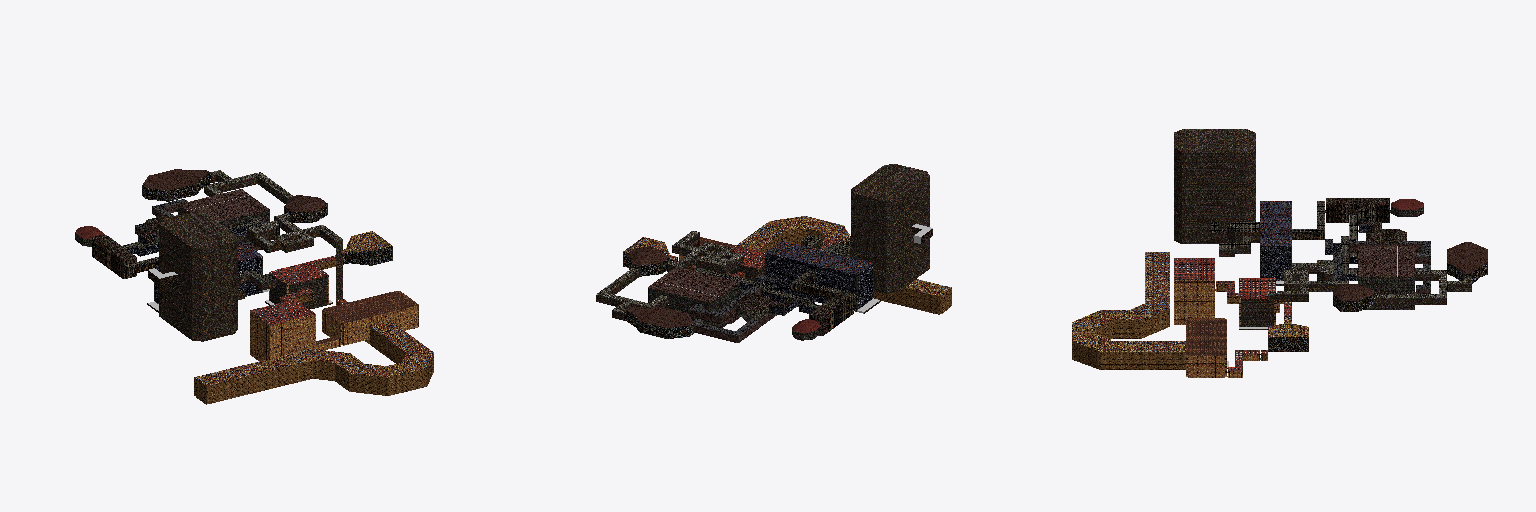
The picture shows the model from 3 angles: view 1: azimuth 30°, elevation 25°; view 2: azimuth 150°, elevation 25°; view 3: azimuth 270°, elevation 25°; orthographic projection.
Parts seen in each view (by area): view 1: Room5, Room36, Room34, Room37, Room39, Room20, Room16, Room42, Room9, Room3, Room23, Room18 (+1 smaller); view 2: Room5, Room3, Room36, Room20, Room16, Room17, Room9, Room23, Room14, Room39, Room15, Room18; view 3: Room5, Room36, Room37, Room34, Room3, Room16, Room39, Room9, Room20, Room42, Room17, Room23 (+4 smaller).
Boxes of the visible parts, box(x1,y1,x2,y2) form: Room5: box(159, 212, 237, 341); Room36: box(194, 321, 433, 404); Room34: box(322, 291, 418, 345); Room37: box(250, 299, 315, 360); Room39: box(265, 262, 332, 308); Room20: box(142, 169, 209, 201); Room16: box(186, 195, 269, 243); Room42: box(343, 231, 392, 265); Room9: box(92, 234, 136, 278); Room3: box(147, 244, 269, 312); Room23: box(284, 195, 327, 222); Room18: box(204, 172, 263, 196); Room5: box(851, 164, 929, 293); Room3: box(765, 241, 880, 313); Room36: box(736, 216, 951, 314); Room20: box(626, 306, 693, 338); Room16: box(656, 267, 739, 327); Room17: box(648, 282, 719, 326); Room9: box(809, 291, 853, 335); Room23: box(627, 246, 669, 276); Room14: box(734, 293, 773, 319); Room39: box(730, 245, 764, 281); Room15: box(695, 268, 776, 290); Room18: box(596, 292, 664, 307); Room5: box(1174, 129, 1255, 243); Room36: box(1072, 252, 1185, 369); Room37: box(1174, 258, 1214, 324); Room34: box(1186, 318, 1228, 377); Room3: box(1260, 201, 1291, 285); Room16: box(1349, 246, 1397, 309); Room39: box(1235, 278, 1279, 329); Room9: box(1325, 198, 1390, 222); Room20: box(1447, 242, 1487, 283); Room42: box(1268, 320, 1308, 351); Room17: box(1398, 246, 1422, 309); Room23: box(1333, 284, 1374, 311).
Bounding box in the file's own units: 9472 × 4948 × 13056.
Materials: 88 (83 with a texture image).